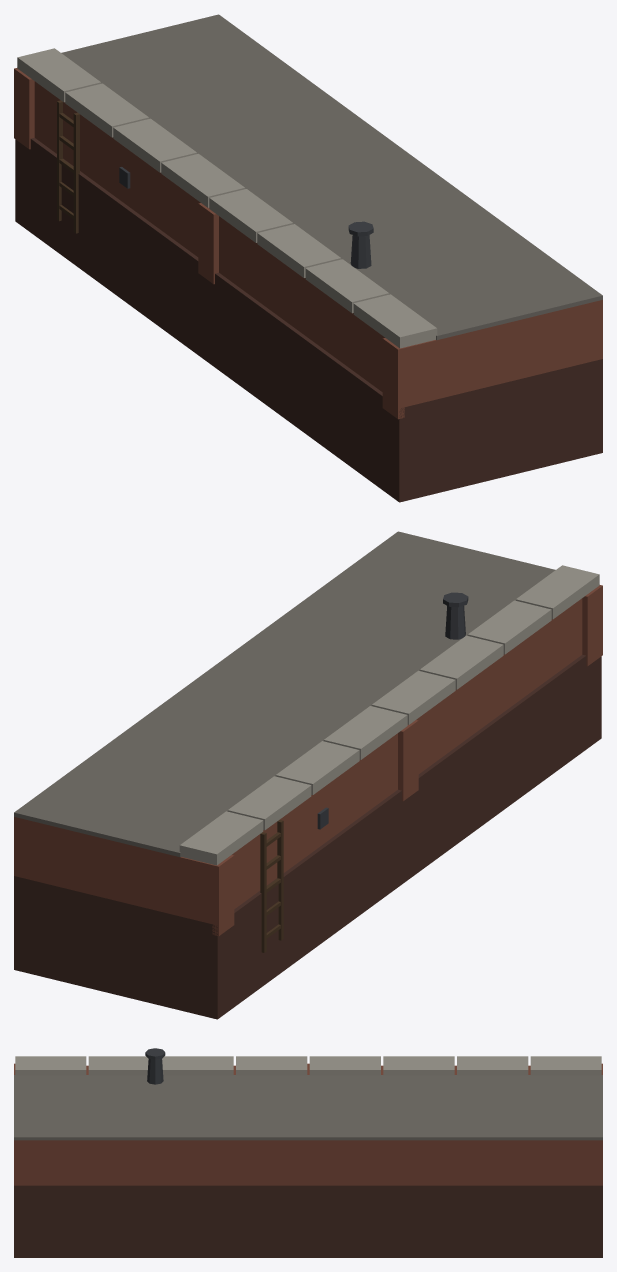
File: kade.glb
The picture shows the model from 3 angles, top to bottom: view 1: azimuth 30°, elevation 25°; view 2: azimuth 150°, elevation 25°; view 3: azimuth 270°, elevation 25°; orthographic projection. The views are drawn at different scales.
Visible parts, largest first — view 1: Kade; view 2: Kade; view 3: Kade.
Boxes of the visible parts, x1,y1,x2,y2 form: Kade: (14, 14, 602, 502); Kade: (14, 531, 602, 1019); Kade: (14, 1048, 602, 1257).
Size of the model in its own units: 3.1 by 2.8 by 10.
